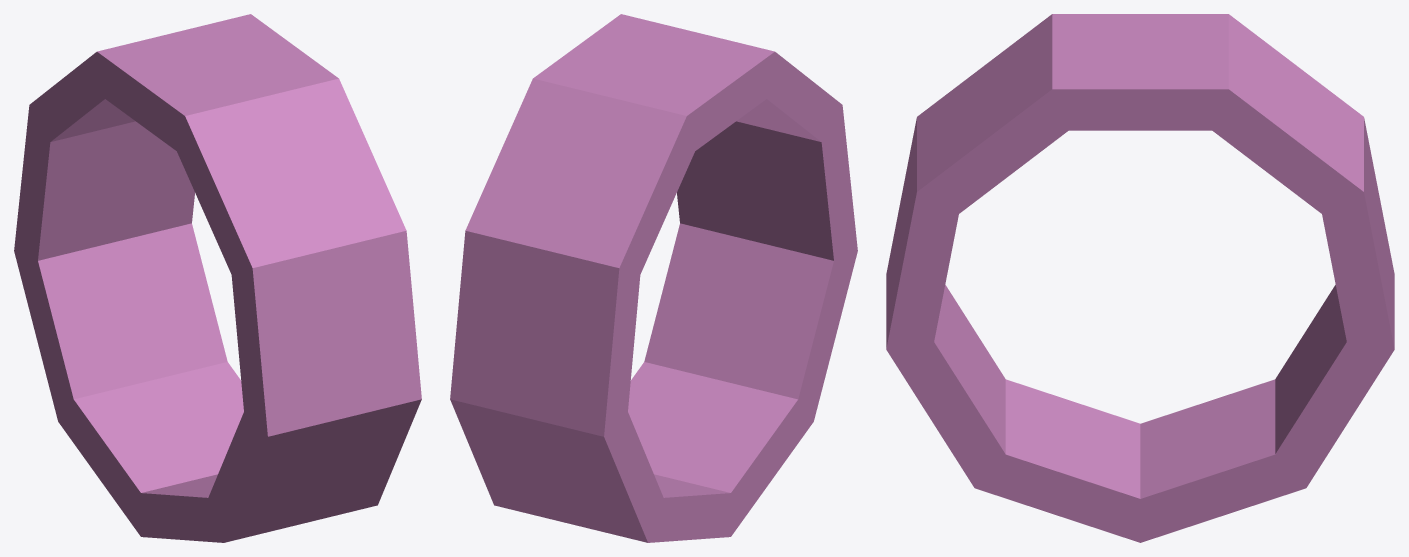
The model's file is ferrisRide.fbx.
3 views of the same model, side by side, from view 1: azimuth 30°, elevation 25°; view 2: azimuth 150°, elevation 25°; view 3: azimuth 270°, elevation 25° (orthographic).
Parts seen in each view (by area): view 1: Tube_6; view 2: Tube_6; view 3: Tube_6.
Part boxes in pixels (box(x1,y1,x2,y2)): Tube_6: box(14, 14, 421, 542); Tube_6: box(450, 14, 857, 542); Tube_6: box(886, 14, 1394, 542).
Size of the model in its own units: 632 by 1777 by 1805.
